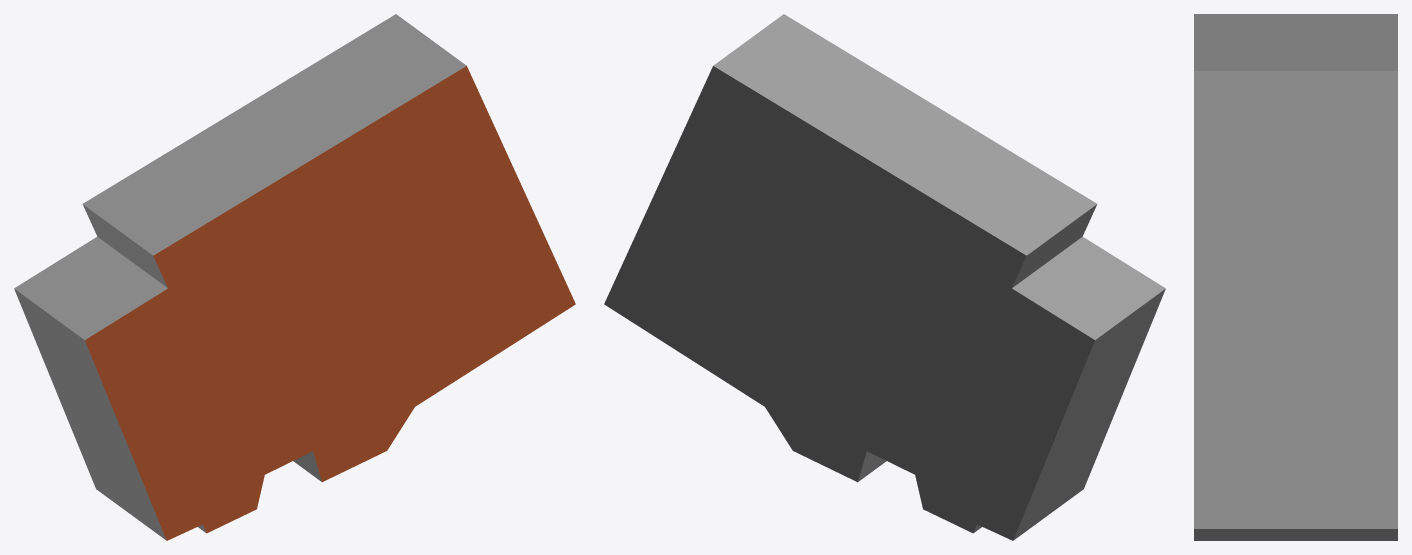
Rendered from construction_3334_assumed_A_Casa_h6m.obj.
3 renders of one model, left to right at view 1: azimuth 30°, elevation 25°; view 2: azimuth 150°, elevation 25°; view 3: azimuth 270°, elevation 25°, orthographic. The views are drawn at different scales.
Visible parts, largest first — view 1: construction_3334_assumed_A_Casa; view 2: construction_3334_assumed_A_Casa; view 3: construction_3334_assumed_A_Casa.
Part boxes in pixels (x1,y1,x2,y2): construction_3334_assumed_A_Casa: (14, 14, 575, 540); construction_3334_assumed_A_Casa: (604, 14, 1165, 540); construction_3334_assumed_A_Casa: (1194, 14, 1397, 540).
Size of the model in its own units: 24.03 by 18.9 by 6.
